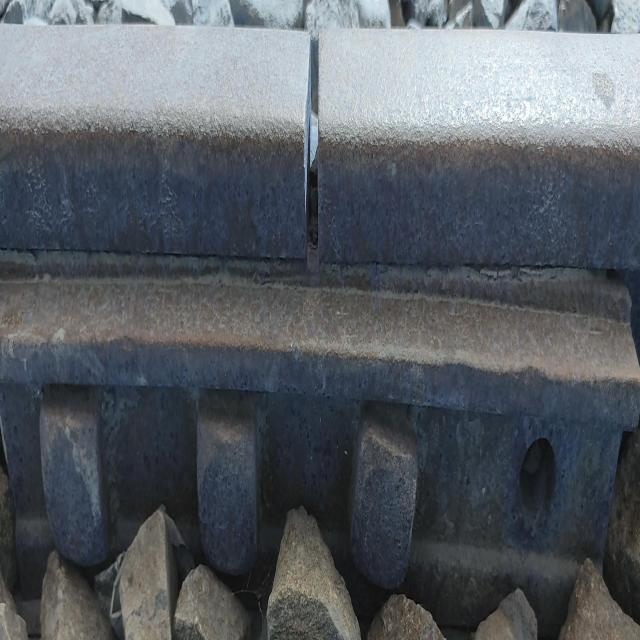Defective Joint: (1, 289, 631, 622)
